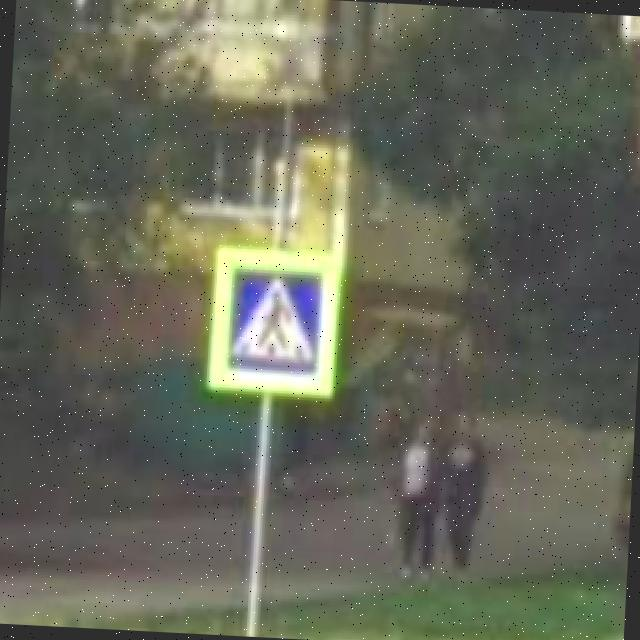Przejscie dla pieszych: (206, 242, 345, 399)
